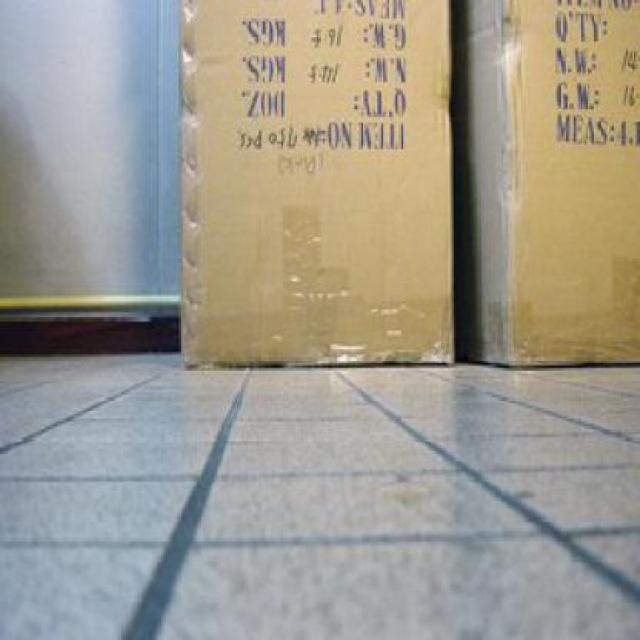box: (167, 0, 462, 371), (462, 0, 640, 367)
